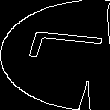L_E: (7, 36, 103, 74)
